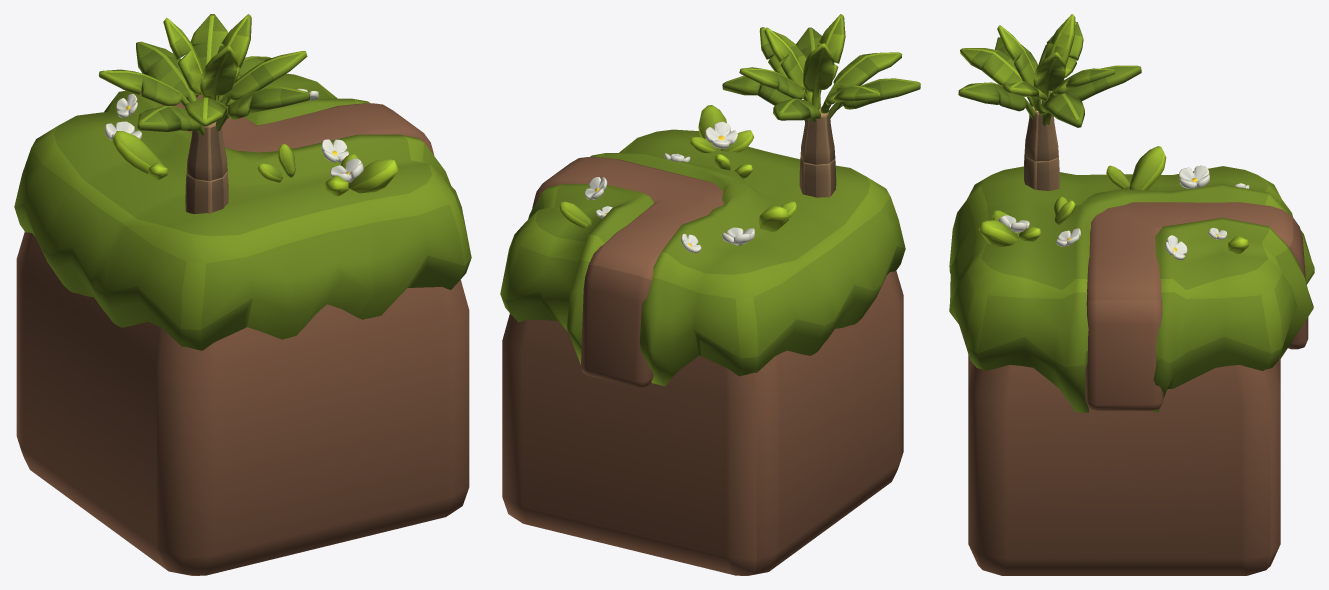
The model's file is Spring2.fbx.
3 views of the same model, side by side, from view 1: azimuth 30°, elevation 25°; view 2: azimuth 150°, elevation 25°; view 3: azimuth 270°, elevation 25° (orthographic). The views are drawn at different scales.
Parts seen in each view (by area): view 1: Spring2, Spring_Cube2.003, Tree_Spring.006, Road.001, Spring_Cube_02.004; view 2: Spring2, Spring_Cube2.003, Road.001, Tree_Spring.006, Spring_Cube_02.004; view 3: Spring2, Spring_Cube2.003, Road.001, Tree_Spring.006, Spring_Cube_02.004.
Part boxes in pixels (bbox=[...]): Spring2: bbox=[16, 231, 469, 575]; Spring_Cube2.003: bbox=[14, 73, 471, 350]; Tree_Spring.006: bbox=[98, 14, 309, 214]; Road.001: bbox=[140, 91, 434, 155]; Spring_Cube_02.004: bbox=[105, 57, 398, 196]; Spring2: bbox=[502, 271, 903, 575]; Spring_Cube2.003: bbox=[500, 129, 905, 386]; Road.001: bbox=[532, 157, 723, 387]; Tree_Spring.006: bbox=[722, 14, 920, 197]; Spring_Cube_02.004: bbox=[559, 105, 797, 253]; Spring2: bbox=[968, 355, 1280, 575]; Spring_Cube2.003: bbox=[949, 166, 1314, 412]; Road.001: bbox=[1085, 202, 1308, 410]; Tree_Spring.006: bbox=[958, 14, 1141, 190]; Spring_Cube_02.004: bbox=[979, 146, 1249, 260].
Size of the model in its own units: 117 by 164 by 117.
